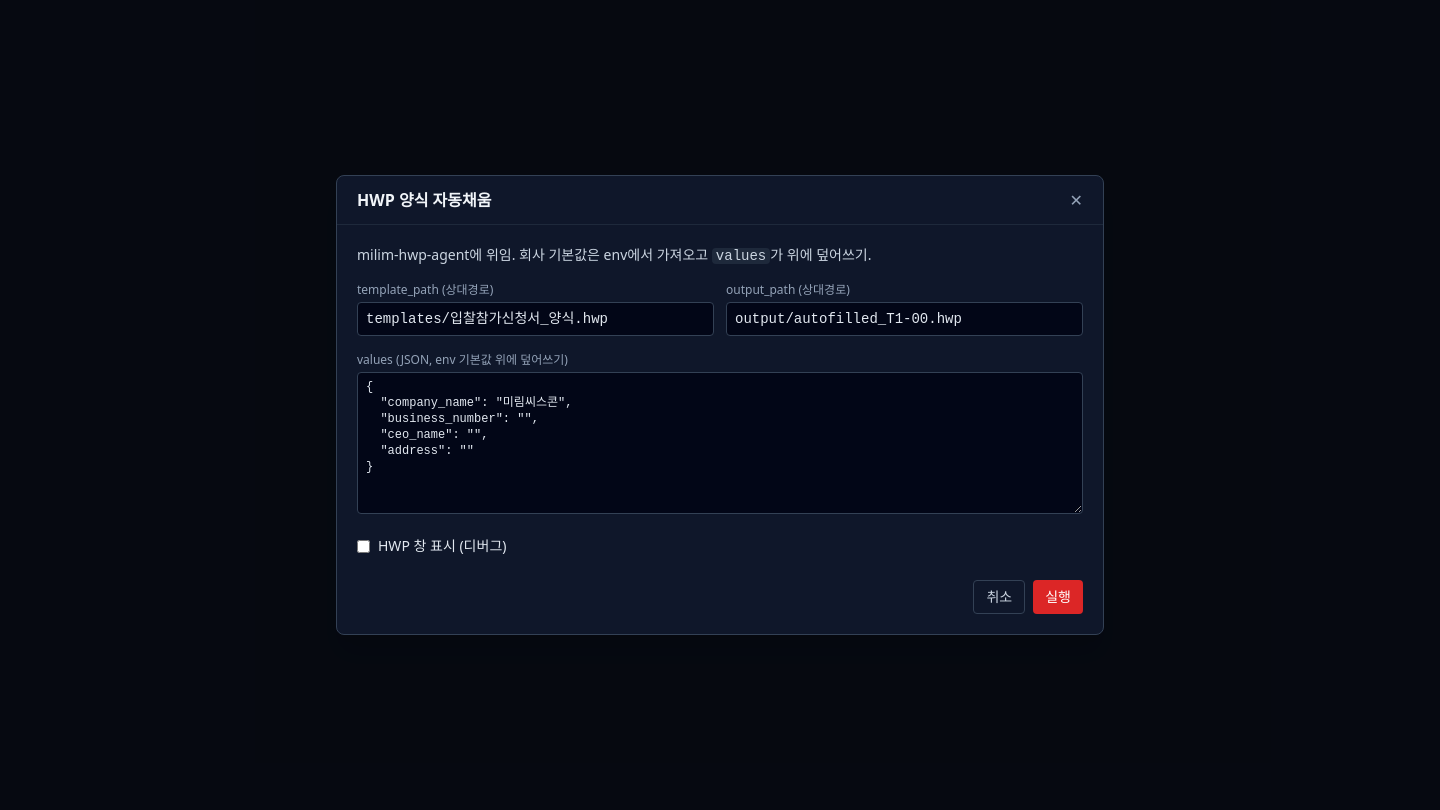
Scenario: AutofillDialog › rejects absolute Windows path
Step 1. Replace the text in the field showing "templates" with "C:\\Windows\\evil.hwp" → (536, 319), box [357,302,714,336]
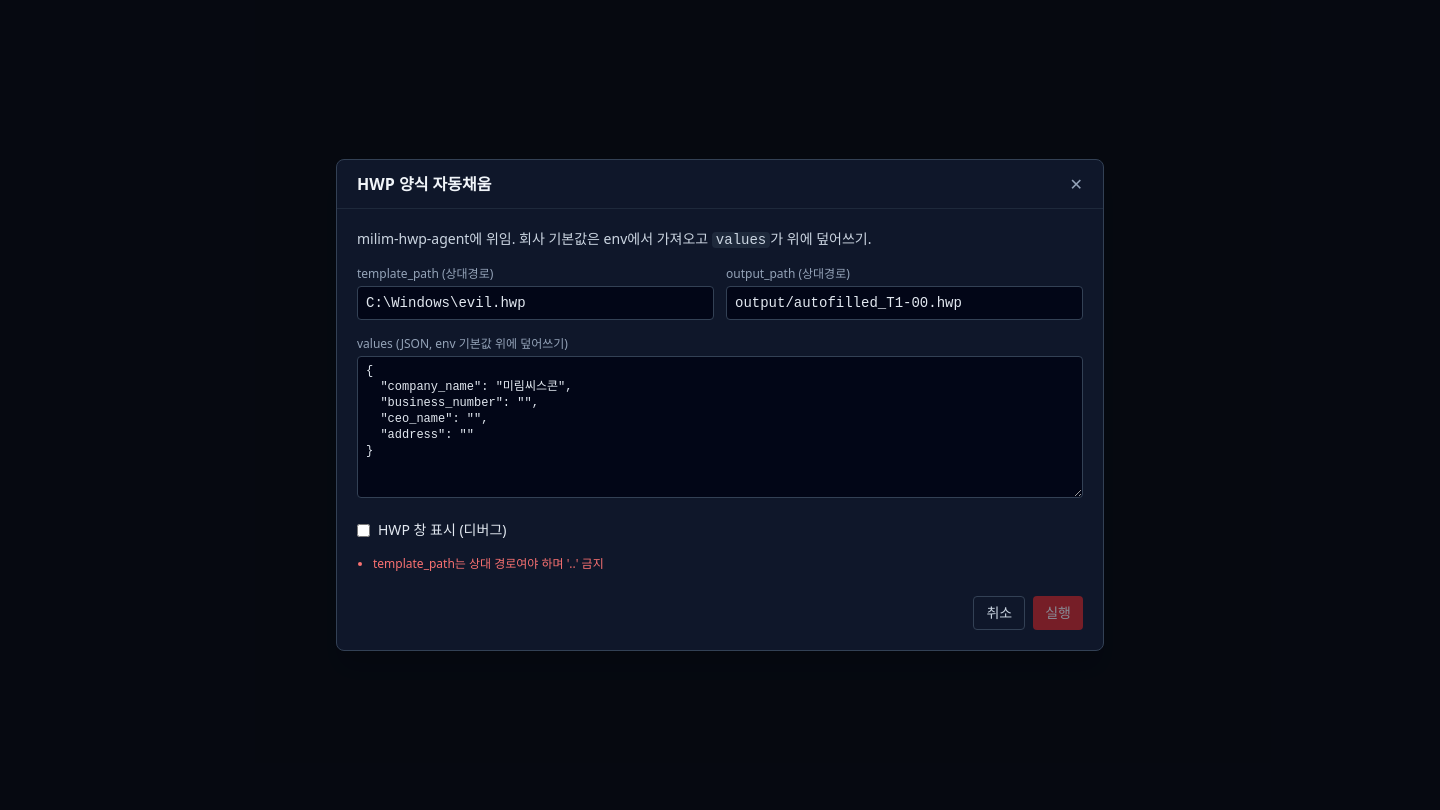
Result: the list item "template_path는 상대 경로여야 하며 '..' 금지" is shown at [373,555,604,572]
